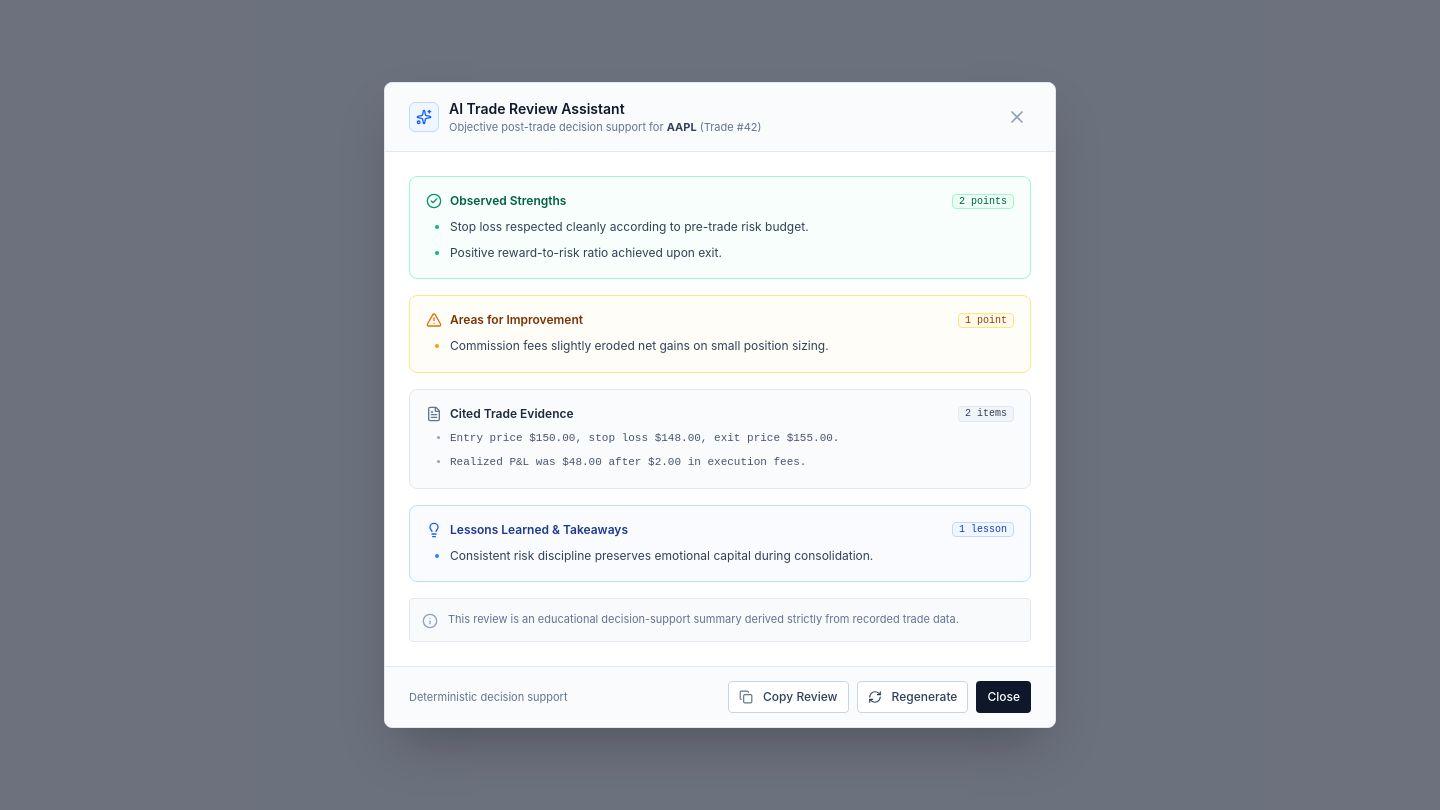
Test case: AI Trade Review Assistant Frontend Integration › copies review text to clipboard when copy button is clicked
expect the text "Observed Strengths" is shown: met, box left=450, top=193, right=566, bottom=209
Click the button with aria-label "Copy review text to clipboard" at (788, 697), box left=728, top=681, right=849, bottom=713
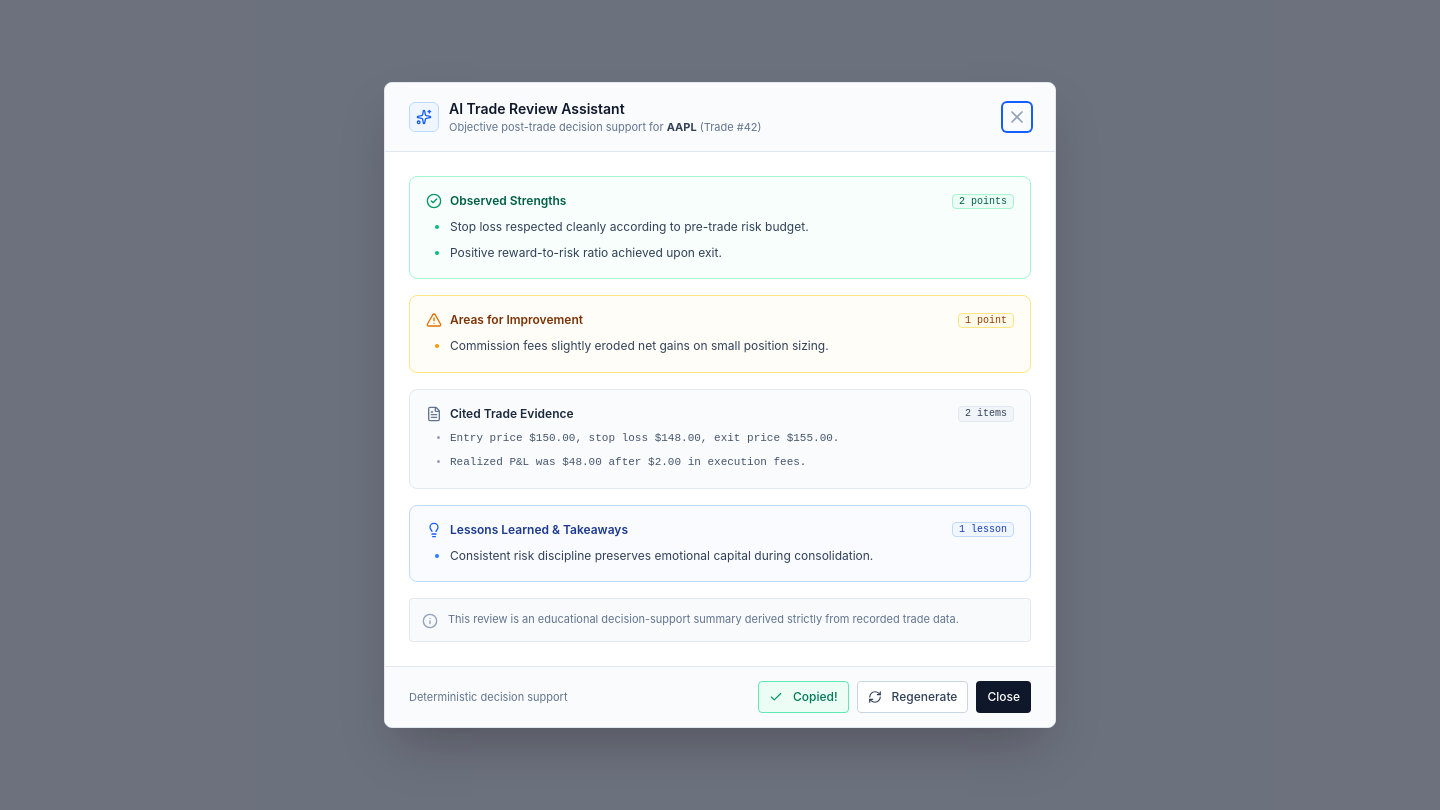
expect the button "Copied!" is shown: met, box left=758, top=681, right=849, bottom=713
